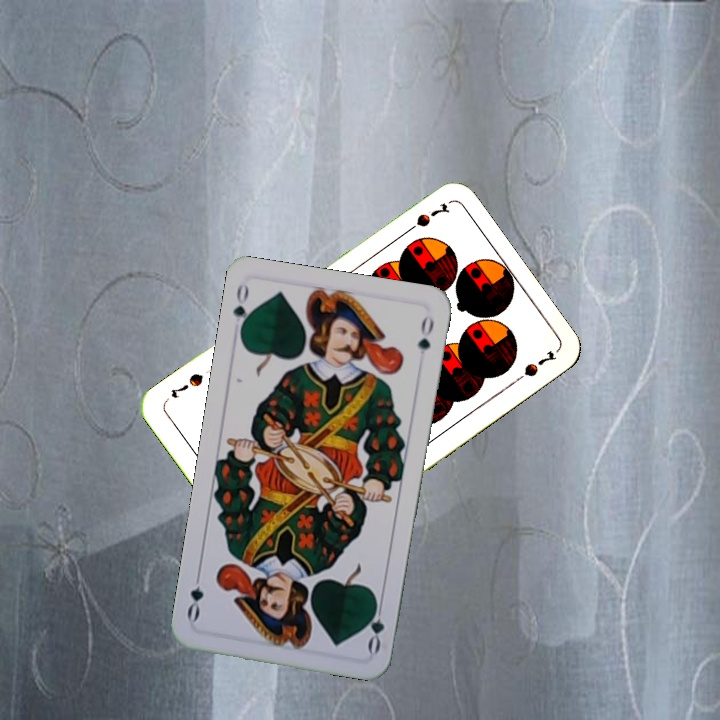GO: (229, 280, 255, 340), (363, 595, 387, 655)
S7: (399, 198, 452, 238)
